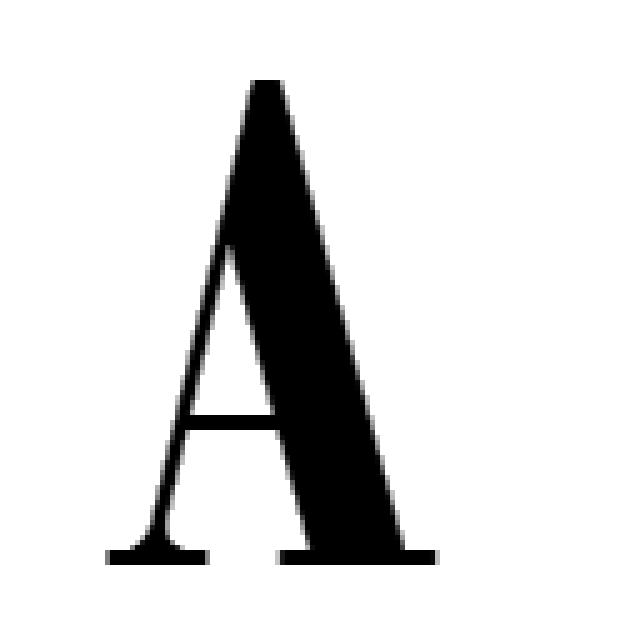A: (95, 70, 445, 575)
